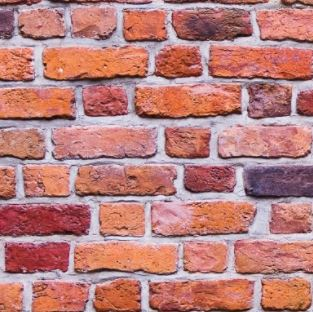brick: (50, 123, 163, 161), (44, 44, 152, 82), (133, 82, 242, 118), (208, 44, 313, 81), (150, 200, 256, 234), (75, 242, 181, 274), (148, 280, 253, 311), (76, 163, 177, 194), (221, 126, 311, 159), (1, 202, 93, 234), (235, 240, 313, 277), (1, 85, 77, 121), (245, 161, 313, 198), (174, 9, 251, 40), (6, 240, 71, 273), (257, 10, 312, 44), (29, 282, 88, 312), (246, 82, 294, 118), (182, 162, 236, 193), (70, 5, 117, 40), (17, 6, 68, 38), (1, 125, 49, 158), (101, 201, 145, 237), (82, 82, 127, 117), (21, 163, 70, 195), (261, 278, 313, 308), (167, 124, 212, 158), (183, 239, 228, 273), (269, 200, 313, 234), (153, 46, 201, 77), (123, 7, 168, 40), (97, 281, 142, 312), (1, 45, 36, 79), (1, 281, 22, 307)
